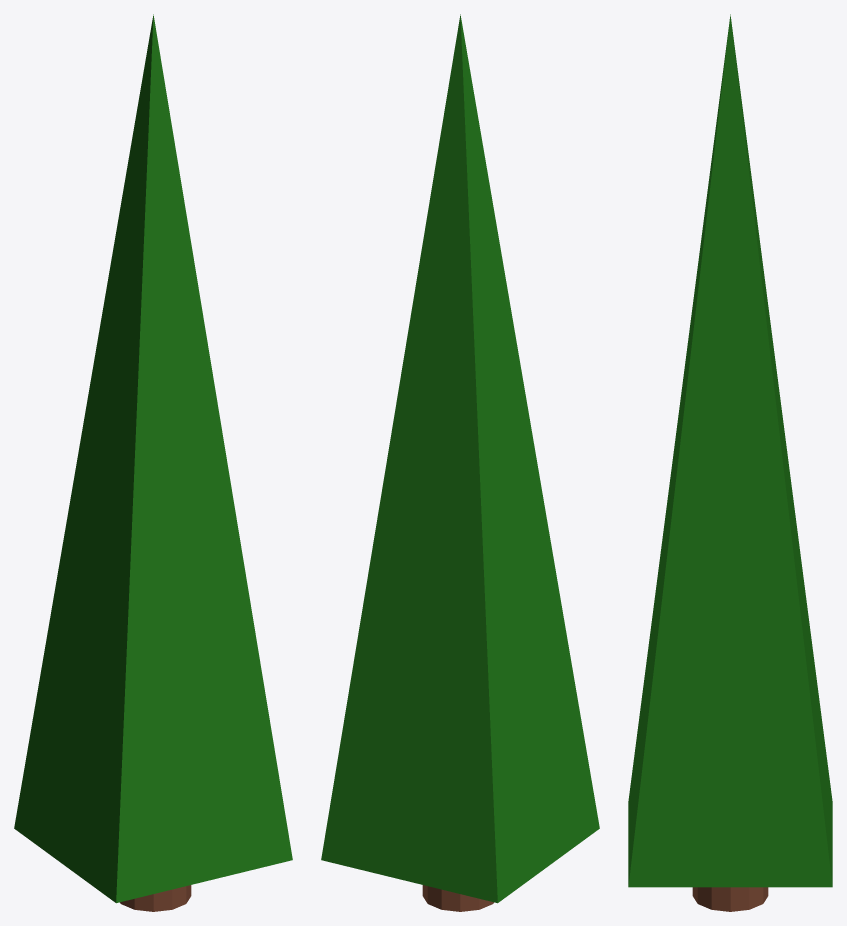
File: Tree_19_summer_mat.fbx
3 renders of one model, left to right at view 1: azimuth 30°, elevation 25°; view 2: azimuth 150°, elevation 25°; view 3: azimuth 270°, elevation 25°, orthographic.
Parts seen in each view (by area): view 1: Tree_19_summer_mat; view 2: Tree_19_summer_mat; view 3: Tree_19_summer_mat.
Boxes of the visible parts, x1,y1,x2,y2 form: Tree_19_summer_mat: [14, 14, 292, 911]; Tree_19_summer_mat: [321, 14, 599, 911]; Tree_19_summer_mat: [628, 14, 832, 911].
Size of the model in its own units: 2.39 by 11.38 by 2.39.
